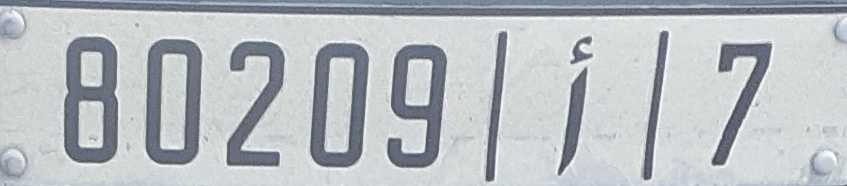0: (309, 40, 372, 173), (143, 37, 204, 168)
2: (225, 37, 286, 169)
7: (707, 39, 777, 170)
8: (60, 32, 121, 165)
9: (384, 41, 451, 172)
a: (555, 33, 595, 176)
